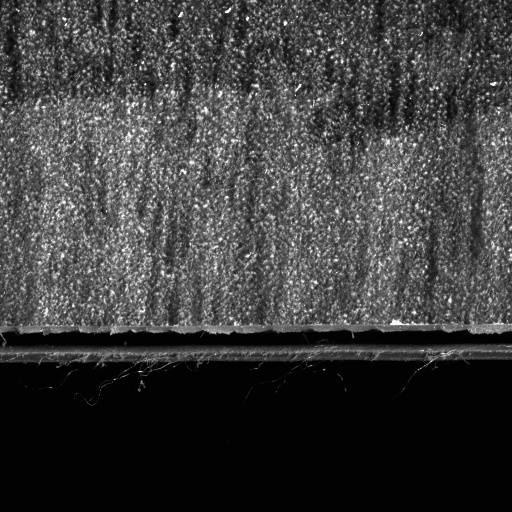kaijiao: (2, 320, 511, 367)
